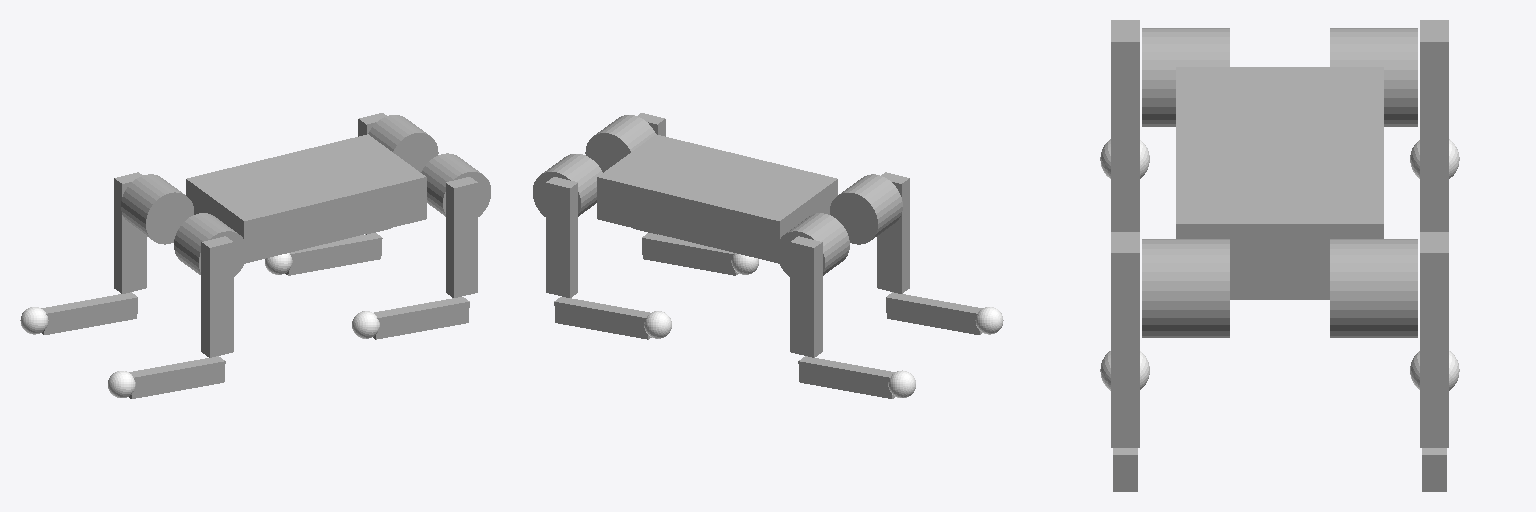
URDF robot description (simple_quadruped):
<?xml version="1.0" encoding="utf-8"?>

<robot name="simple_quadruped">
  <link name="trunk">
    <inertial>
      <origin
        xyz="0.03738 -0.0065903 0.0057934"
        rpy="0 0 0" />
      <mass
        value="20.8" />
      <inertia
        ixx="0.131102"
        ixy="0.001924"
        ixz="0.001299"
        iyy="0.407915"
        iyz="0.002595"
        izz="0.476755" />
    </inertial>
    <visual>
      <origin
        xyz="0 0 0"
        rpy="0 0 0" />
      <geometry>
        <box
          size="0.45 0.25 0.1" />
      </geometry>
      <material
        name="">
        <color
          rgba="0.75294 0.75294 0.75294 1" />
      </material>
    </visual>
    <collision>
      <origin
        xyz="0 0 0"
        rpy="0 0 0" />
      <geometry>
        <box
          size="0.45 0.25 0.1" />
      </geometry>
    </collision>
  </link>

  <link name="FL_hip">
    <inertial>
      <origin
        xyz="0.067568 0.0095934 1.3738E-05"
        rpy="0 0 0" />
      <mass
        value="2.86" />
      <inertia
        ixx="0.004368"
        ixy="0.000362"
        ixz="0.000114"
        iyy="0.007476"
        iyz="0.000035"
        izz="0.006777" />
    </inertial>
    <visual>
      <origin
        xyz="0.1 0.03325 0"
        rpy="1.5707963 0 0" />
      <geometry>
        <cylinder radius="0.06" length="0.1065" />
      </geometry>
      <material
        name="">
        <color
          rgba="0.75294 0.75294 0.75294 1" />
      </material>
    </visual>
    <collision>
      <origin
        xyz="0.1 0.03325 0"
        rpy="1.5707963 0 0" />
      <geometry>
        <cylinder radius="0.06" length="0.1065" />
      </geometry>
    </collision>
  </link>
  <joint name="FL_hip_joint" type="revolute">
    <origin
      xyz="0.2015 0.08 0"
      rpy="0 0 0" />
    <parent
      link="trunk" />
    <child
      link="FL_hip" />
    <axis
      xyz="1 0 0" />
    <limit
      lower="-0.80285"
      upper="0.80285"
      effort="100"
      velocity="21" />
  </joint>
  <link name="FL_thigh">
    <inertial>
      <origin
        xyz="-0.0090988 -0.0065295 -0.0688"
        rpy="0 0 0" />
      <mass
        value="2.6" />
      <inertia
        ixx="0.016848"
        ixy="-0.000310"
        ixz="0.001116"
        iyy="0.016749"
        iyz="-0.002270"
        izz="0.002088" />
    </inertial>
    <visual>
      <origin
        xyz="-0.025 0 -0.08"
        rpy="0 0 0" />
      <geometry>
        <box size="0.06 0.035 0.26" />
      </geometry>
      <material
        name="">
        <color
          rgba="0.75294 0.75294 0.75294 1" />
      </material>
    </visual>
    <collision>
      <origin
        xyz="-0.025 0 -0.08"
        rpy="0 0 0" />
      <geometry>
        <box size="0.06 0.035 0.26" />
      </geometry>
    </collision>
  </link>
  <joint name="FL_thigh_joint" type="revolute">
    <origin
      xyz="0.1 0.1065 0"
      rpy="0 0 0" />
    <parent
      link="FL_hip" />
    <child
      link="FL_thigh" />
    <axis
      xyz="0 1 0" />
    <limit
      lower="-1.0472"
      upper="4.1888"
      effort="100"
      velocity="21" />
  </joint>
  <link name="FL_calf">
    <inertial>
      <origin
        xyz="0.017829 -1.577E-05 -0.099213"
        rpy="0 0 0" />
      <mass
        value="0.314" />
      <inertia
        ixx="0.003733"
        ixy="-0.000000087"
        ixz="-0.0006"
        iyy="0.003882"
        iyz="0.000000838"
        izz="0.000177" />
    </inertial>
    <visual>
      <origin
        xyz="0.0164695 0 -0.13"
        rpy="0 -0.17453 0" />
      <geometry>
        <box size="0.05 0.03 0.23" />
      </geometry>
      <material
        name="">
        <color
          rgba="0.75294 0.75294 0.75294 1" />
      </material>
    </visual>
    <collision>
      <origin
        xyz="0.0164695 0 -0.13"
        rpy="0 -0.17453 0" />
      <geometry>
        <box size="0.05 0.03 0.23" />
      </geometry>
    </collision>
  </link>
  <joint name="FL_calf_joint" type="revolute">
    <origin
      xyz="0 0 -0.26"
      rpy="0 0 0" />
    <parent
      link="FL_thigh" />
    <child
      link="FL_calf" />
    <axis
      xyz="0 1 0" />
    <limit
      lower="0.9163"
      upper="2.6965"
      effort="150"
      velocity="21" />
  </joint>
  <link name="FL_foot">
    <inertial>
      <origin
        xyz="-5.5511E-17 0 0"
        rpy="0 0 0" />
      <mass
        value="0.00020487" />
      <inertia
        ixx="1.096E-09"
        ixy="-2.0392E-56"
        ixz="0"
        iyy="1.096E-09"
        iyz="0"
        izz="1.096E-09" />
    </inertial>
    <visual>
      <origin
        xyz="0 0 0"
        rpy="0 0 0" />
      <geometry>
        <sphere radius="0.030" />
      </geometry>
      <material
        name="">
        <color
          rgba="1 1 1 1" />
      </material>
    </visual>
    <collision>
      <origin
        xyz="0 0 0"
        rpy="0 0 0" />
      <geometry>
        <sphere radius="0.030" />
      </geometry>
    </collision>
  </link>
  <joint name="FL_foot_joint" type="fixed">
    <origin
      xyz="0.032939 0 -0.26149"
      rpy="0 0 0" />
    <parent
      link="FL_calf" />
    <child
      link="FL_foot" />
    <axis
      xyz="0 0 0" />
  </joint>

  <joint name="FR_hip_joint" type="revolute">
    <origin
      xyz="0.2015 -0.08 0"
      rpy="0 0 0" />
    <parent
      link="trunk" />
    <child
      link="FR_hip" />
    <axis
      xyz="1 0 0" />
    <limit
      lower="-0.80285"
      upper="0.80285"
      effort="100"
      velocity="21" />
  </joint>
  <link name="FR_hip">
    <inertial>
      <origin
        xyz="0.067568 -0.0091759 -0.00023747"
        rpy="0 0 0" />
      <mass
        value="2.86" />
      <inertia
        ixx="0.004373"
        ixy="-0.000397"
        ixz="-0.000096"
        iyy="0.007483"
        iyz="0.000030"
        izz="0.006775" />
    </inertial>
    <visual>
      <origin
        xyz="0.1 -0.03325 0"
        rpy="1.5707963 0 0" />
      <geometry>
        <cylinder radius="0.06" length="0.1065" />
      </geometry>
      <material
        name="">
        <color
          rgba="0.75294 0.75294 0.75294 1" />
      </material>
    </visual>
    <collision>
      <origin
        xyz="0.1 -0.03325 0"
        rpy="1.5707963 0 0" />
      <geometry>
        <cylinder radius="0.06" length="0.1065" />
      </geometry>
    </collision>
  </link>
  <joint name="FR_thigh_joint" type="revolute">
    <origin
      xyz="0.1 -0.10685 0"
      rpy="0 0 0" />
    <parent
      link="FR_hip" />
    <child
      link="FR_thigh" />
    <axis
      xyz="0 1 0" />
    <limit
      lower="-1.0472"
      upper="4.1888"
      effort="100"
      velocity="21" />
  </joint>
  <link name="FR_thigh">
    <inertial>
      <origin
        xyz="-0.0095338 0.026092 -0.067392"
        rpy="0 0 0" />
      <mass
        value="2.6" />
      <inertia
        ixx="0.016261"
        ixy="0.000284"
        ixz="0.001143"
        iyy="0.016389"
        iyz="0.002508"
        izz="0.002194" />
    </inertial>
    <visual>
      <origin
        xyz="-0.025 0 -0.08"
        rpy="0 0 0" />
      <geometry>
        <box size="0.06 0.035 0.26" />
      </geometry>
      <material
        name="">
        <color
          rgba="0.75294 0.75294 0.75294 1" />
      </material>
    </visual>
    <collision>
      <origin
        xyz="-0.025 0 -0.08"
        rpy="0 0 0" />
      <geometry>
        <box size="0.06 0.035 0.26" />
      </geometry>
    </collision>
  </link>
  <joint name="FR_calf_joint" type="revolute">
    <origin
      xyz="0 0 -0.26"
      rpy="0 0 0" />
    <parent
      link="FR_thigh" />
    <child
      link="FR_calf" />
    <axis
      xyz="0 1 0" />
    <limit
      lower="0.9163"
      upper="2.6965"
      effort="150"
      velocity="21" />
  </joint>
  <link name="FR_calf">
    <inertial>
      <origin
        xyz="0.017829 -1.577E-05 -0.099213"
        rpy="0 0 0" />
      <mass
        value="0.314" />
      <inertia
        ixx="0.003733"
        ixy="-0.000000087"
        ixz="-0.0006"
        iyy="0.003882"
        iyz="0.000000838"
        izz="0.000177" />
    </inertial>
    <visual>
      <origin
        xyz="0.0164695 0 -0.13"
        rpy="0 -0.17453 0" />
      <geometry>
        <box size="0.05 0.03 0.23" />
      </geometry>
      <material
        name="">
        <color
          rgba="0.75294 0.75294 0.75294 1" />
      </material>
    </visual>
    <collision>
      <origin
        xyz="0.0164695 0 -0.13"
        rpy="0 -0.17453 0" />
      <geometry>
        <box size="0.05 0.03 0.23" />
      </geometry>
    </collision>
  </link>
  <joint name="FR_foot_joint" type="fixed">
    <origin
      xyz="0.032939 0 -0.26149"
      rpy="0 0 0" />
    <parent
      link="FR_calf" />
    <child
      link="FR_foot" />
    <axis
      xyz="0 0 0" />
  </joint>
  <link name="FR_foot">
    <inertial>
      <origin
        xyz="0 0 0"
        rpy="0 0 0" />
      <mass
        value="0.00020487" />
      <inertia
        ixx="1.096E-09"
        ixy="0"
        ixz="1.7152E-40"
        iyy="1.096E-09"
        iyz="0"
        izz="1.096E-09" />
    </inertial>
    <visual>
      <origin
        xyz="0 0 0"
        rpy="0 0 0" />
      <geometry>
        <sphere radius="0.030" />
      </geometry>
      <material
        name="">
        <color
          rgba="1 1 1 1" />
      </material>
    </visual>
    <collision>
      <origin
        xyz="0 0 0"
        rpy="0 0 0" />
      <geometry>
        <sphere radius="0.030" />
      </geometry>
    </collision>
  </link>

  <joint name="RR_hip_joint" type="revolute">
    <origin
      xyz="-0.2015 -0.08 0"
      rpy="0 0 0" />
    <parent
      link="trunk" />
    <child
      link="RR_hip" />
    <axis
      xyz="1 0 0" />
    <limit
      lower="-0.80285"
      upper="0.80285"
      effort="100"
      velocity="21" />
  </joint>
  <link name="RR_hip">
    <inertial>
      <origin
        xyz="-0.067556 -0.0095934 -1.7463E-05"
        rpy="0 0 0" />
      <mass
        value="2.86" />
      <inertia
        ixx="0.004372"
        ixy="0.000364"
        ixz="-0.000106"
        iyy="0.007471"
        iyz="-0.000038"
        izz="0.006768" />
    </inertial>
    <visual>
      <origin
        xyz="-0.1 -0.03325 0"
        rpy="1.5707963 0 0" />
      <geometry>
        <cylinder radius="0.06" length="0.1065" />
      </geometry>
      <material
        name="">
        <color
          rgba="0.75294 0.75294 0.75294 1" />
      </material>
    </visual>
    <collision>
      <origin
        xyz="-0.1 -0.03325 0"
        rpy="1.5707963 0 0" />
      <geometry>
        <cylinder radius="0.06" length="0.1065" />
      </geometry>
    </collision>
  </link>
  <joint name="RR_thigh_joint" type="revolute">
    <origin
      xyz="-0.1 -0.10685 0"
      rpy="0 0 0" />
    <parent
      link="RR_hip" />
    <child
      link="RR_thigh" />
    <axis
      xyz="0 1 0" />
    <limit
      lower="-1.0472"
      upper="4.1888"
      effort="100"
      velocity="21" />
  </joint>
  <link name="RR_thigh">
    <inertial>
      <origin
        xyz="-0.0098055 0.020667 -0.067167"
        rpy="0 0 0" />
      <mass
        value="2.6" />
      <inertia
        ixx="0.017144"
        ixy="0.000198"
        ixz="0.001067"
        iyy="0.016508"
        iyz="0.002833"
        izz="0.002907" />
    </inertial>
    <visual>
      <origin
        xyz="-0.025 0 -0.08"
        rpy="0 0 0" />
      <geometry>
        <box size="0.06 0.035 0.26" />
      </geometry>
      <material
        name="">
        <color
          rgba="0.75294 0.75294 0.75294 1" />
      </material>
    </visual>
    <collision>
      <origin
        xyz="-0.025 0 -0.08"
        rpy="0 0 0" />
      <geometry>
        <box size="0.06 0.035 0.26" />
      </geometry>
    </collision>
  </link>
  <joint name="RR_calf_joint" type="revolute">
    <origin
      xyz="0 0 -0.26"
      rpy="0 0 0" />
    <parent
      link="RR_thigh" />
    <child
      link="RR_calf" />
    <axis
      xyz="0 1 0" />
    <limit
      lower="0.9163"
      upper="2.6965"
      effort="150"
      velocity="21" />
  </joint>
  <link name="RR_calf">
    <inertial>
      <origin
        xyz="0.017829 -1.577E-05 -0.099213"
        rpy="0 0 0" />
      <mass
        value="0.314" />
      <inertia
        ixx="0.003733"
        ixy="-0.000000087"
        ixz="-0.0006"
        iyy="0.003882"
        iyz="0.000000838"
        izz="0.000177" />
    </inertial>
    <visual>
      <origin
        xyz="0.0164695 0 -0.13"
        rpy="0 -0.17453 0" />
      <geometry>
        <box size="0.05 0.03 0.23" />
      </geometry>
      <material
        name="">
        <color
          rgba="0.75294 0.75294 0.75294 1" />
      </material>
    </visual>
    <collision>
      <origin
        xyz="0.0164695 0 -0.13"
        rpy="0 -0.17453 0" />
      <geometry>
        <box size="0.05 0.03 0.23" />
      </geometry>
    </collision>
  </link>
  <joint name="RR_foot_joint" type="fixed">
    <origin
      xyz="0.032939 0 -0.26149"
      rpy="0 0 0" />
    <parent
      link="RR_calf" />
    <child
      link="RR_foot" />
    <axis
      xyz="0 0 0" />
  </joint>
  <link name="RR_foot">
    <inertial>
      <origin
        xyz="0 0 0"
        rpy="0 0 0" />
      <mass
        value="0.000204873572147578" />
      <inertia
        ixx="1.09600066619755E-09"
        ixy="0"
        ixz="5.28443143791483E-42"
        iyy="1.09600066619755E-09"
        iyz="0"
        izz="1.09600066619755E-09" />
    </inertial>
    <visual>
      <origin
        xyz="0 0 0"
        rpy="0 0 0" />
      <geometry>
        <sphere radius="0.030" />
      </geometry>
      <material
        name="">
        <color
          rgba="1 1 1 1" />
      </material>
    </visual>
    <collision>
      <origin
        xyz="0 0 0"
        rpy="0 0 0" />
      <geometry>
        <sphere radius="0.030" />
      </geometry>
    </collision>
  </link>

  <joint name="RL_hip_joint" type="revolute">
    <origin
      xyz="-0.2015 0.08 0"
      rpy="0 0 0" />
    <parent
      link="trunk" />
    <child
      link="RL_hip" />
    <axis
      xyz="1 0 0" />
    <limit
      lower="-0.80285"
      upper="0.80285"
      effort="100"
      velocity="21" />
  </joint>
  <link name="RL_hip">
    <inertial>
      <origin
        xyz="-0.06741 0.0095934 7.3103E-05"
        rpy="0 0 0" />
      <mass
        value="2.86" />
      <inertia
        ixx="0.004372"
        ixy="0.000364"
        ixz="-0.000106"
        iyy="0.007471"
        iyz="-0.000038"
        izz="0.006768" />
    </inertial>
    <visual>
      <origin
        xyz="-0.1 0.03325 0"
        rpy="1.5707963 0 0" />
      <geometry>
        <cylinder radius="0.06" length="0.1065" />
      </geometry>
      <material
        name="">
        <color
          rgba="0.75294 0.75294 0.75294 1" />
      </material>
    </visual>
    <collision>
      <origin
        xyz="-0.1 0.03325 0"
        rpy="1.5707963 0 0" />
      <geometry>
        <cylinder radius="0.06" length="0.1065" />
      </geometry>
    </collision>
  </link>
  <joint name="RL_thigh_joint" type="revolute">
    <origin
      xyz="-0.1 0.1065 0"
      rpy="0 0 0" />
    <parent
      link="RL_hip" />
    <child
      link="RL_thigh" />
    <axis
      xyz="0 1 0" />
    <limit
      lower="-1.0472"
      upper="4.1888"
      effort="100"
      velocity="21" />
  </joint>
  <link name="RL_thigh">
    <inertial>
      <origin
        xyz="-0.0090357 -0.0065295 -0.0688"
        rpy="0 0 0" />
      <mass
        value="2.6" />
      <inertia
        ixx="0.016848"
        ixy="-0.000310"
        ixz="0.001116"
        iyy="0.016749"
        iyz="-0.002270"
        izz="0.002088" />
    </inertial>
    <visual>
      <origin
        xyz="-0.025 0 -0.08"
        rpy="0 0 0" />
      <geometry>
        <box size="0.06 0.035 0.26" />
      </geometry>
      <material
        name="">
        <color
          rgba="0.75294 0.75294 0.75294 1" />
      </material>
    </visual>
    <collision>
      <origin
        xyz="-0.025 0 -0.08"
        rpy="0 0 0" />
      <geometry>
        <box size="0.06 0.035 0.26" />
      </geometry>
    </collision>
  </link>
  <joint name="RL_calf_joint" type="revolute">
    <origin
      xyz="6.3209E-05 0 -0.26"
      rpy="0 0 0" />
    <parent
      link="RL_thigh" />
    <child
      link="RL_calf" />
    <axis
      xyz="0 1 0" />
    <limit
      lower="0.9163"
      upper="2.6965"
      effort="150"
      velocity="21" />
  </joint>
  <link name="RL_calf">
    <inertial>
      <origin
        xyz="0.017829 -1.577E-05 -0.099213"
        rpy="0 0 0" />
      <mass
        value="0.314" />
      <inertia
        ixx="0.003733"
        ixy="-0.000000087"
        ixz="-0.0006"
        iyy="0.003882"
        iyz="0.000000838"
        izz="0.000177" />
    </inertial>
    <visual>
      <origin
        xyz="0.0164695 0 -0.13"
        rpy="0 -0.17453 0" />
      <geometry>
        <box size="0.05 0.03 0.23" />
      </geometry>
      <material
        name="">
        <color
          rgba="0.75294 0.75294 0.75294 1" />
      </material>
    </visual>
    <collision>
      <origin
        xyz="0.0164695 0 -0.13"
        rpy="0 -0.17453 0" />
      <geometry>
        <box size="0.05 0.03 0.23" />
      </geometry>
    </collision>
  </link>
  <joint name="RL_foot_joint" type="fixed">
    <origin
      xyz="0.0329385085367515 0 -0.261492891464613"
      rpy="0 0 0" />
    <parent
      link="RL_calf" />
    <child
      link="RL_foot" />
    <axis
      xyz="0 0 0" />
  </joint>
  <link name="RL_foot">
    <inertial>
      <origin
        xyz="0 5.55111512312578E-17 0"
        rpy="0 0 0" />
      <mass
        value="0.000204873572147578" />
      <inertia
        ixx="1.09600066619755E-09"
        ixy="0"
        ixz="7.97487625425431E-42"
        iyy="1.09600066619755E-09"
        iyz="0"
        izz="1.09600066619755E-09" />
    </inertial>
    <visual>
      <origin
        xyz="0 0 0"
        rpy="0 0 0" />
      <geometry>
        <sphere radius="0.030" />
      </geometry>
      <material
        name="">
        <color
          rgba="1 1 1 1" />
      </material>
    </visual>
    <collision>
      <origin
        xyz="0 0 0"
        rpy="0 0 0" />
      <geometry>
        <sphere radius="0.030" />
      </geometry>
    </collision>
  </link>

</robot>

--- Facts derived from the render (not from the file) ---
Views: 3 orthographic renders of the robot side by side, from view 1: azimuth 30°, elevation 25°; view 2: azimuth 150°, elevation 25°; view 3: azimuth 270°, elevation 25°.
Robot: simple_quadruped — 17 links, 16 joints (12 revolute, 4 fixed); root link trunk; default pose: all joints at 0 but 4 set to mid-range because 0 is outside their limits (FL_calf_joint = 1.81, FR_calf_joint = 1.81, RR_calf_joint = 1.81, RL_calf_joint = 1.81).
Visible links, largest first — view 1: trunk, RR_thigh, FR_thigh, RL_hip, RL_thigh, RR_calf, FR_calf, RL_calf, FL_calf, RR_hip, FL_hip, FR_hip (+3 smaller); view 2: trunk, RL_thigh, FL_thigh, RR_hip, RR_thigh, RL_calf, FL_calf, RR_calf, FR_calf, RL_hip, FR_hip, FL_hip (+3 smaller); view 3: trunk, FL_hip, FR_hip, FL_thigh, FR_thigh, RR_thigh, RL_thigh, RR_hip, RL_hip, FL_calf, FR_calf, FL_foot (+3 smaller).
Boxes of the visible links, x1=… form: trunk: x1=186, y1=134, x2=426, y2=263; RR_thigh: x1=201, y1=236, x2=233, y2=357; FR_thigh: x1=446, y1=177, x2=477, y2=297; RL_hip: x1=121, y1=174, x2=193, y2=244; RL_thigh: x1=114, y1=172, x2=146, y2=293; RR_calf: x1=129, y1=356, x2=225, y2=398; FR_calf: x1=373, y1=297, x2=469, y2=339; RL_calf: x1=41, y1=292, x2=137, y2=334; FL_calf: x1=285, y1=233, x2=382, y2=275; RR_hip: x1=174, y1=213, x2=246, y2=276; FL_hip: x1=368, y1=115, x2=438, y2=172; FR_hip: x1=421, y1=153, x2=490, y2=216; trunk: x1=597, y1=134, x2=837, y2=263; RL_thigh: x1=790, y1=236, x2=822, y2=357; FL_thigh: x1=546, y1=177, x2=577, y2=297; RR_hip: x1=830, y1=174, x2=902, y2=244; RR_thigh: x1=877, y1=172, x2=909, y2=293; RL_calf: x1=798, y1=356, x2=894, y2=398; FL_calf: x1=554, y1=297, x2=651, y2=339; RR_calf: x1=886, y1=292, x2=982, y2=334; FR_calf: x1=642, y1=233, x2=738, y2=275; RL_hip: x1=777, y1=213, x2=849, y2=276; FR_hip: x1=585, y1=115, x2=655, y2=172; FL_hip: x1=533, y1=154, x2=602, y2=216; trunk: x1=1176, y1=67, x2=1383, y2=299; FL_hip: x1=1330, y1=239, x2=1417, y2=337; FR_hip: x1=1142, y1=239, x2=1229, y2=337; FL_thigh: x1=1420, y1=232, x2=1448, y2=447; FR_thigh: x1=1111, y1=232, x2=1139, y2=447; RR_thigh: x1=1111, y1=20, x2=1139, y2=231; RL_thigh: x1=1420, y1=20, x2=1448, y2=231; RR_hip: x1=1142, y1=28, x2=1229, y2=126; RL_hip: x1=1330, y1=28, x2=1417, y2=126; FL_calf: x1=1422, y1=448, x2=1446, y2=491; FR_calf: x1=1113, y1=448, x2=1137, y2=491; FL_foot: x1=1410, y1=351, x2=1459, y2=390.
Bounding box of the posed robot: 0.9549 × 0.4333 × 0.3376 m (x, y, z).
Geometry: primitives only (box / cylinder / sphere), no mesh files.